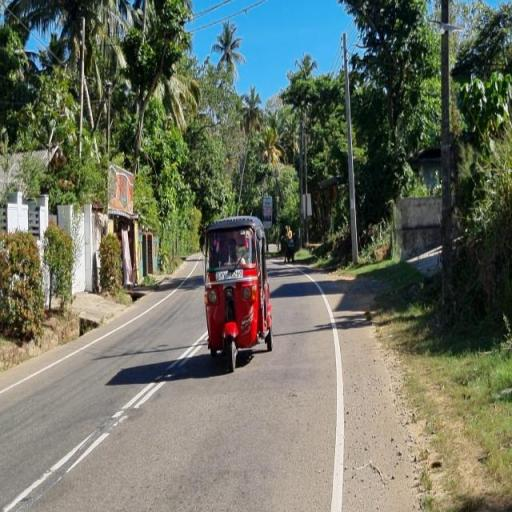double_white_line: (109, 332, 205, 428)
